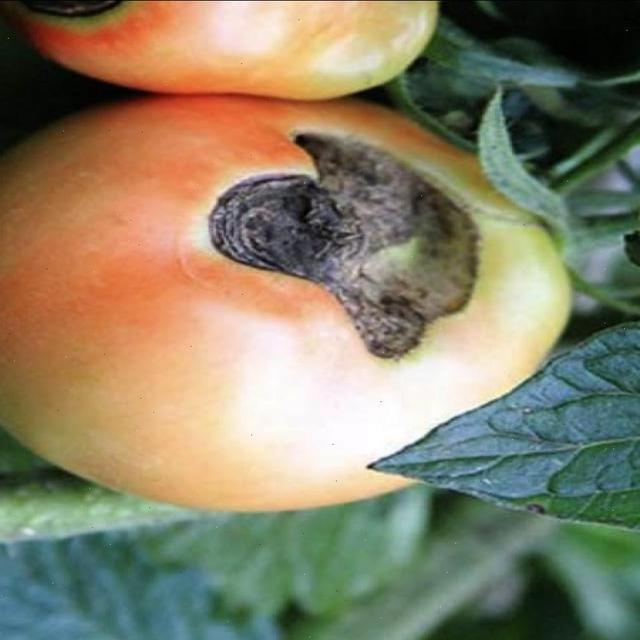Blossom End Rot Fruit: (49, 5, 231, 161)
